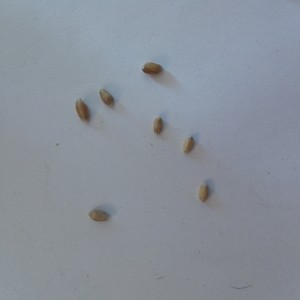trigo: (73, 98, 91, 125), (87, 207, 112, 226), (141, 59, 164, 78), (197, 181, 214, 206), (95, 87, 115, 107), (180, 135, 195, 156), (150, 117, 166, 135)
